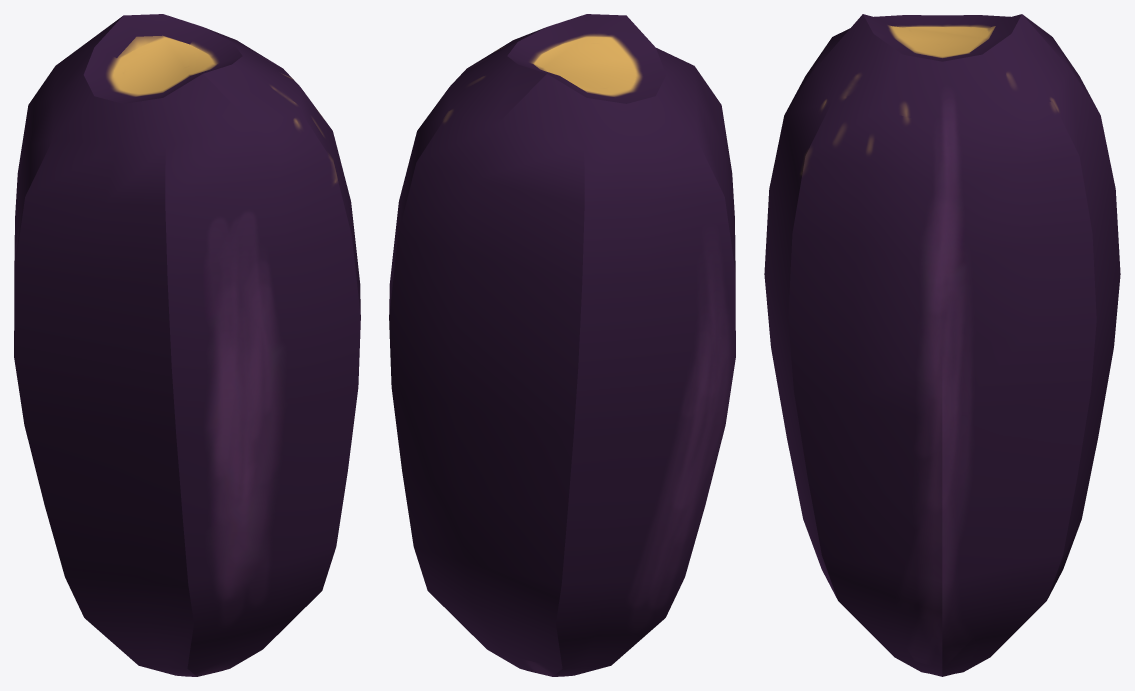
File: Prune.fbx
3 renders of one model, left to right at view 1: azimuth 30°, elevation 25°; view 2: azimuth 150°, elevation 25°; view 3: azimuth 270°, elevation 25°, orthographic.
Visible parts, largest first — view 1: Prune; view 2: Prune; view 3: Prune.
Part boxes in pixels (<box>): Prune: <box>14,14,360,676</box>; Prune: <box>389,14,735,676</box>; Prune: <box>764,14,1120,676</box>.
Size of the model in its own units: 292 by 550 by 280.
